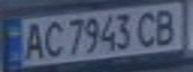3: (115, 10, 136, 51)
4: (100, 11, 121, 53)
7: (63, 16, 84, 56)
9: (81, 13, 103, 55)
A: (18, 19, 48, 61)
B: (151, 6, 184, 46)
C: (133, 7, 163, 47), (39, 18, 66, 58)
